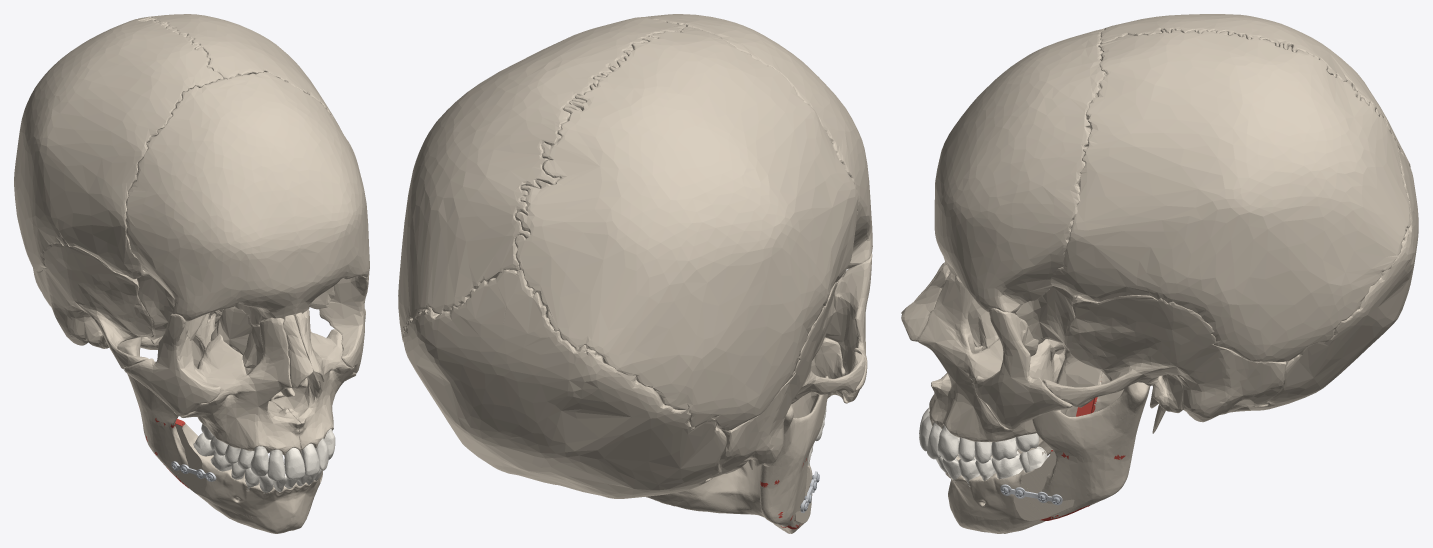
The model's file is class2-after.glb.
3 views of the same model, side by side, from view 1: azimuth 30°, elevation 25°; view 2: azimuth 150°, elevation 25°; view 3: azimuth 270°, elevation 25° (orthographic). The views are drawn at different scales.
Parts seen in each view (by area): view 1: bone, moved, teeth; view 2: bone, moved; view 3: bone, moved, teeth.
Boxes of the visible parts, x1=… form: bone: x1=14, y1=14, x2=369, y2=482; moved: x1=167, y1=423, x2=322, y2=533; teeth: x1=193, y1=424, x2=335, y2=493; bone: x1=398, y1=14, x2=872, y2=527; moved: x1=645, y1=461, x2=812, y2=533; bone: x1=901, y1=14, x2=1418, y2=518; moved: x1=945, y1=406, x2=1077, y2=533; teeth: x1=919, y1=407, x2=1047, y2=486.
Size of what is drawn, in the model's own units: 0.1482 by 0.2128 by 0.2035.
